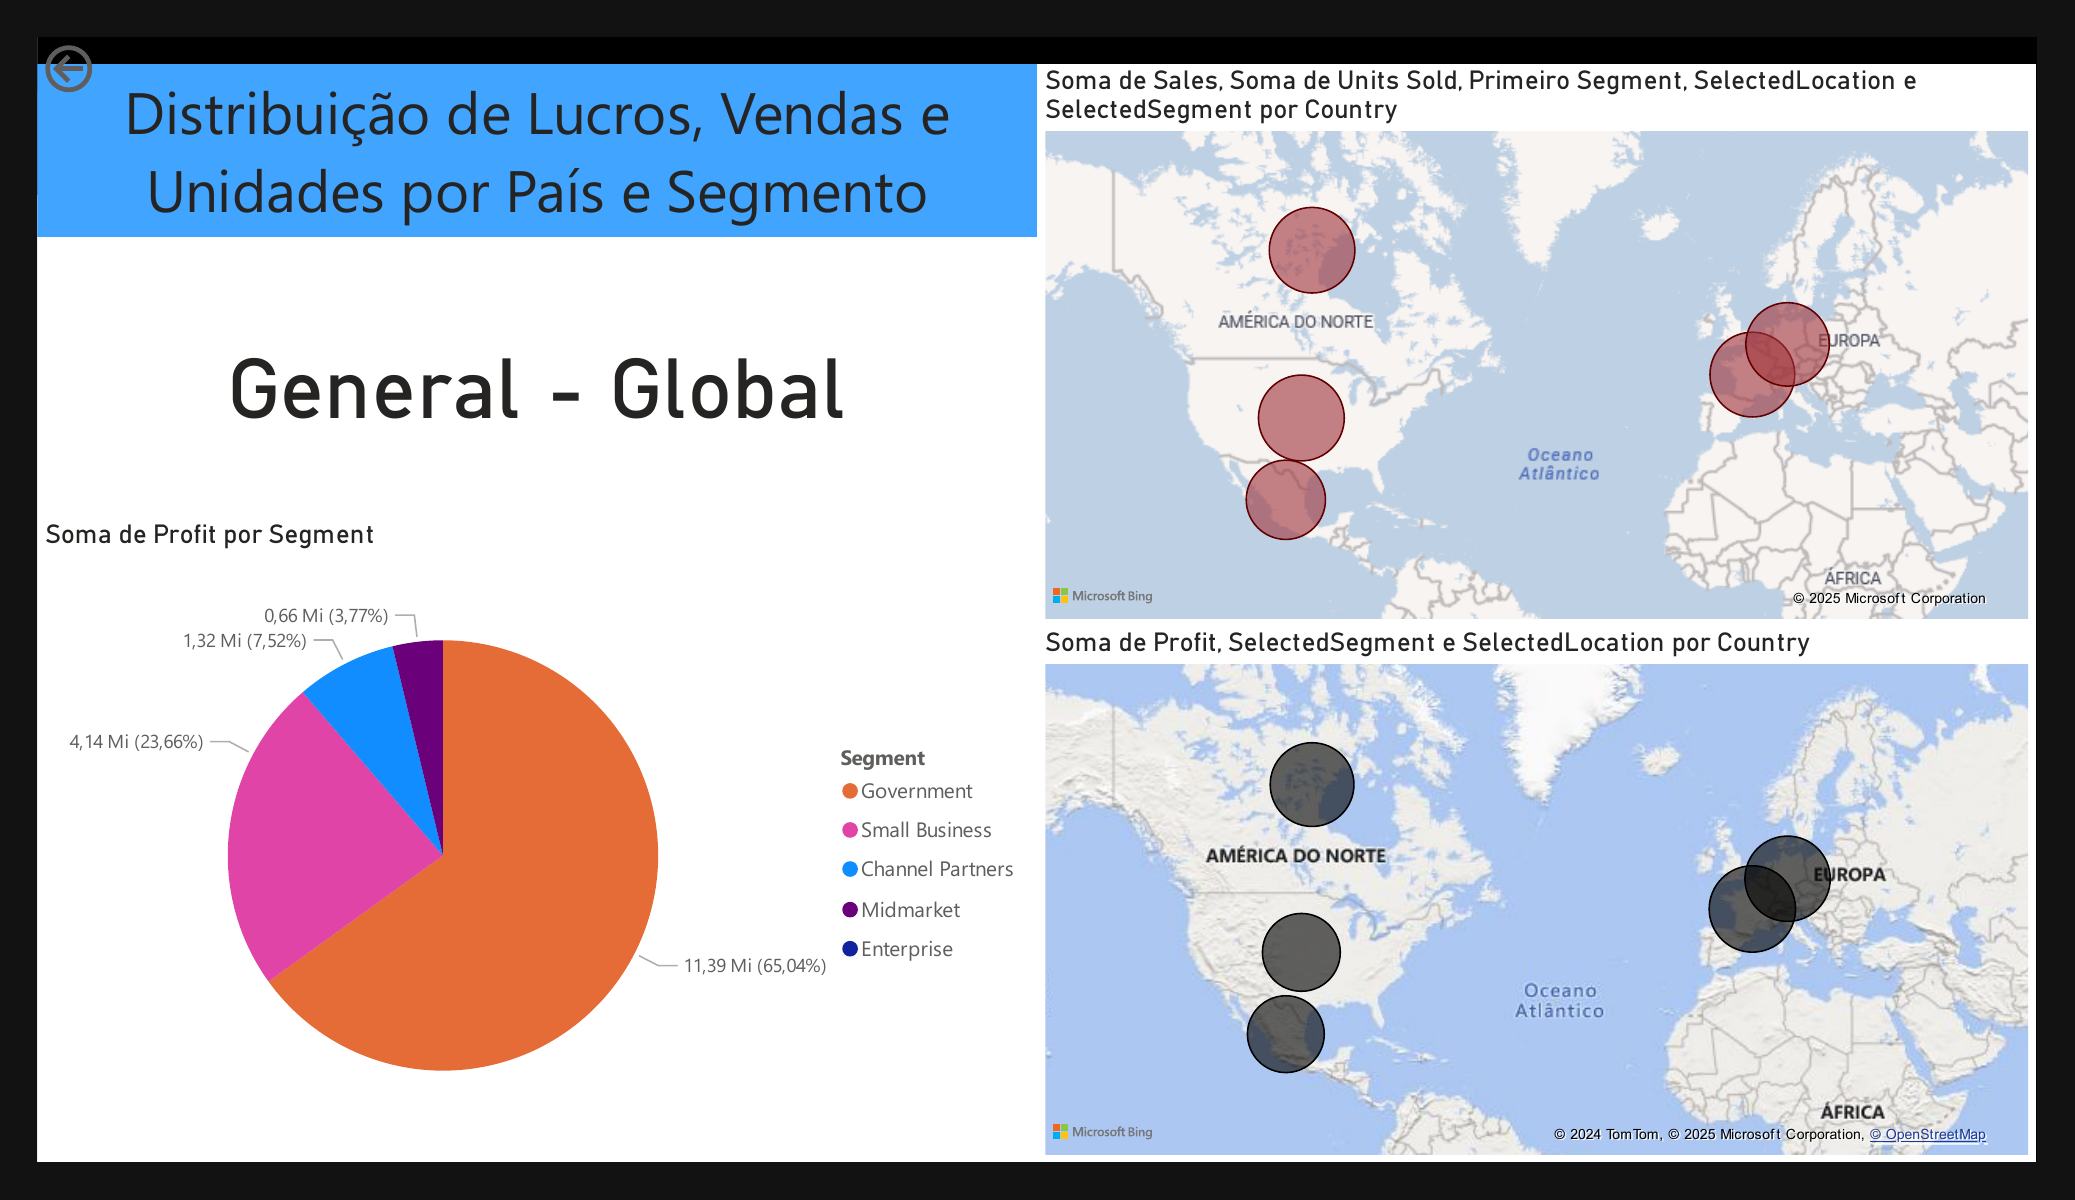

Layout of this report page (visuals, bound fields, positions):
{"tool":"powerbi","page":{"name":"Página 3","canvas":[1280,720],"ordinal":2},"visuals":[{"type":"map","title":"Unidades Vendidas por Segmento e País","fields":{"Category":["financials.Country"],"Size":["Sum(financials.Sales)"]},"box":[640,80,640,320],"z":1000},{"type":"map","title":"Lucro por País","fields":{"Category":["financials.Country"],"Size":["Sum(financials.Profit)"]},"box":[640,400,640,320],"z":2000},{"type":"textbox","box":[0,0,1280,80],"z":3000},{"type":"pieChart","title":"Lucro por Segmento","fields":{"Category":["financials.Segment"],"Y":["Sum(financials.Profit)"]},"box":[0,176,640,544],"z":4000},{"type":"card","fields":{"Values":["financials.Seletor"]},"box":[0,80,640,96],"z":5000},{"type":"actionButton","box":[24,16,96,40],"z":5001}]}

Visuals, with their boxes on the page's 1280x720 design canvas (x1, y1, x2, y2). These are canvas units, not pixel positions in the 2075x1200 screenshot, which may show the page scaled, cropped or inside an application window:
"Unidades Vendidas por Segmento e País" map: x1=640, y1=80, x2=1280, y2=400
"Lucro por País" map: x1=640, y1=400, x2=1280, y2=720
textbox: x1=0, y1=0, x2=1280, y2=80
"Lucro por Segmento" pieChart: x1=0, y1=176, x2=640, y2=720
card - financials.Seletor: x1=0, y1=80, x2=640, y2=176
actionButton: x1=24, y1=16, x2=120, y2=56
